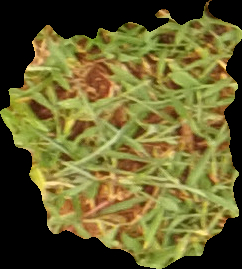grass: (1, 1, 241, 267)
